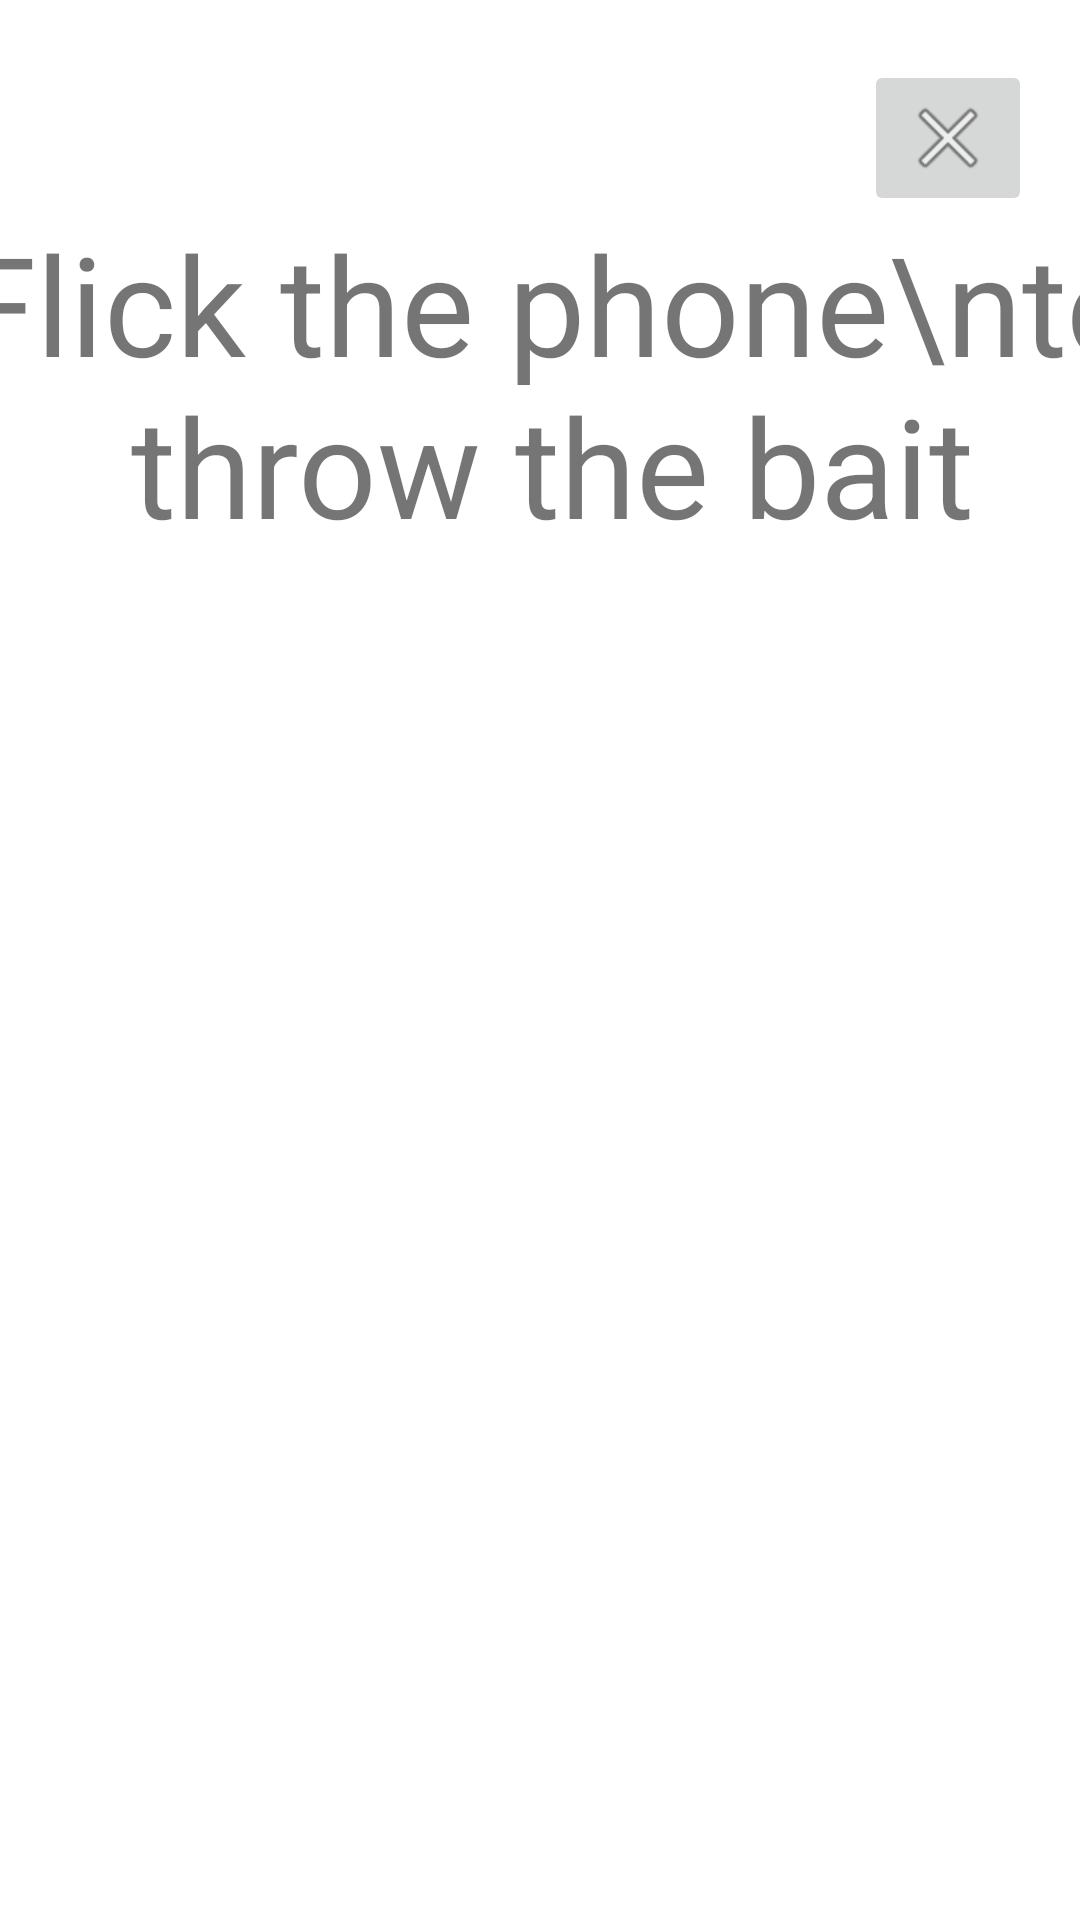

Screen size 1080*1920. Icon name, then its box in pixels as detection(x1, y1, x2, y2):
close clear cancel: detection(876, 78, 1020, 198)
